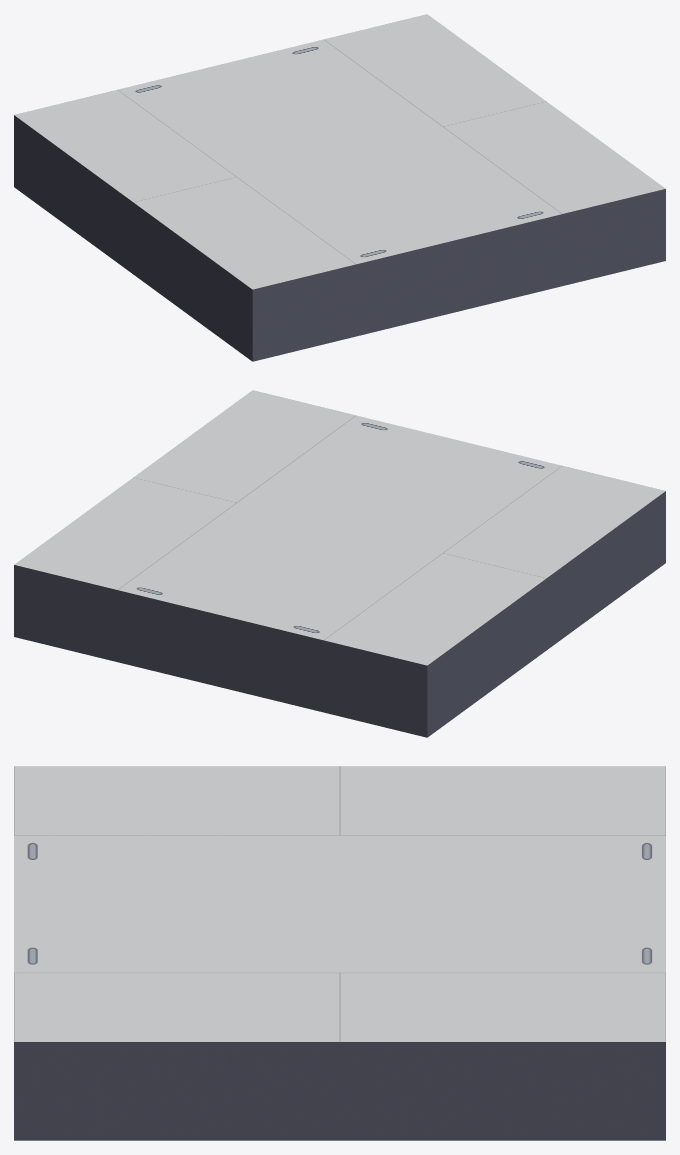
The model's file is Floor_08.FBX.
3 views of the same model, one above another, from view 1: azimuth 30°, elevation 25°; view 2: azimuth 150°, elevation 25°; view 3: azimuth 270°, elevation 25° (orthographic). The views are drawn at different scales.
Parts seen in each view (by area): view 1: Floor_08; view 2: Floor_08; view 3: Floor_08.
Boxes of the visible parts, bbox=[...] form: Floor_08: bbox=[14, 14, 665, 361]; Floor_08: bbox=[14, 390, 665, 737]; Floor_08: bbox=[14, 766, 665, 1140].
Size of the model in its own units: 6 by 1 by 6.
Materials: 2 (2 with a texture image).
